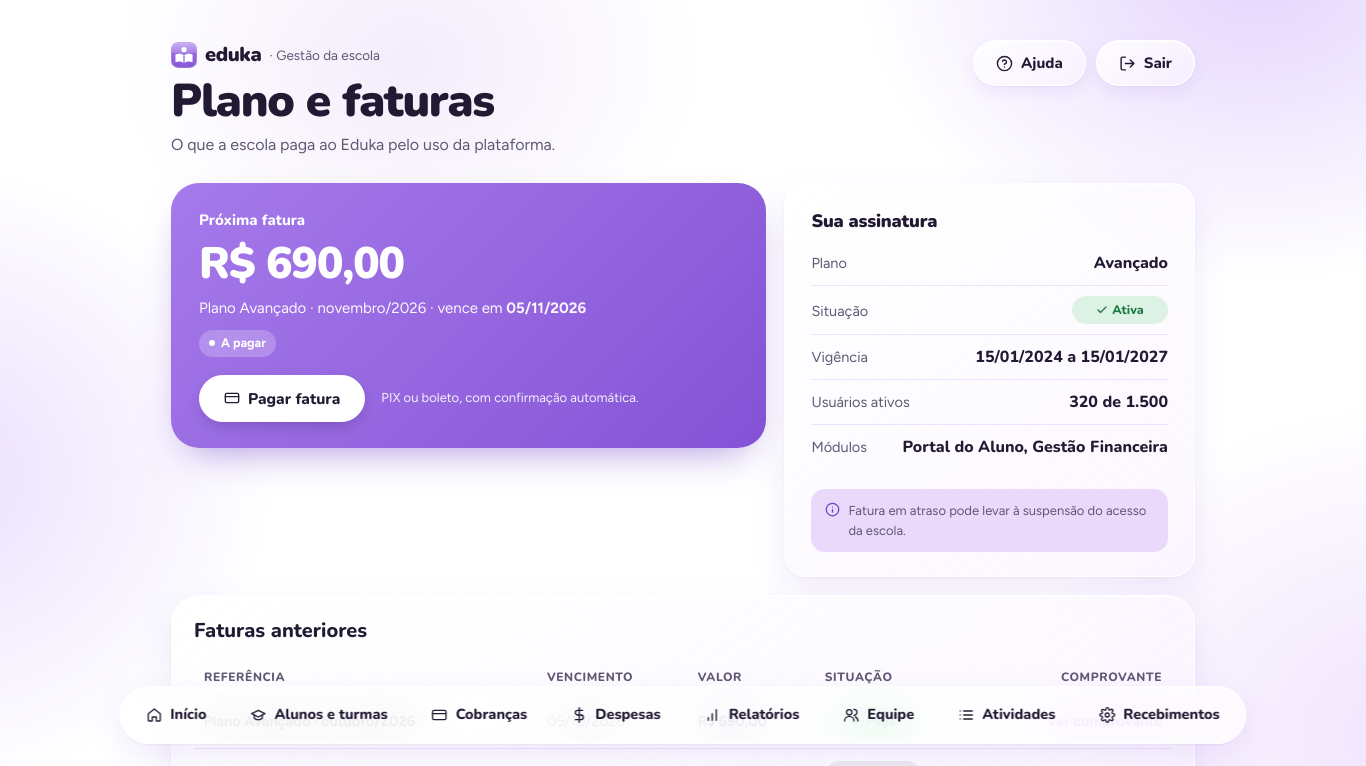
Test case: PlanoEFaturas › Pagar fatura abre a mesma escolha de PIX ou boleto do aluno
Click the button "Pagar fatura".
click(282, 398)  # box x1=199 y1=374 x2=365 y2=422
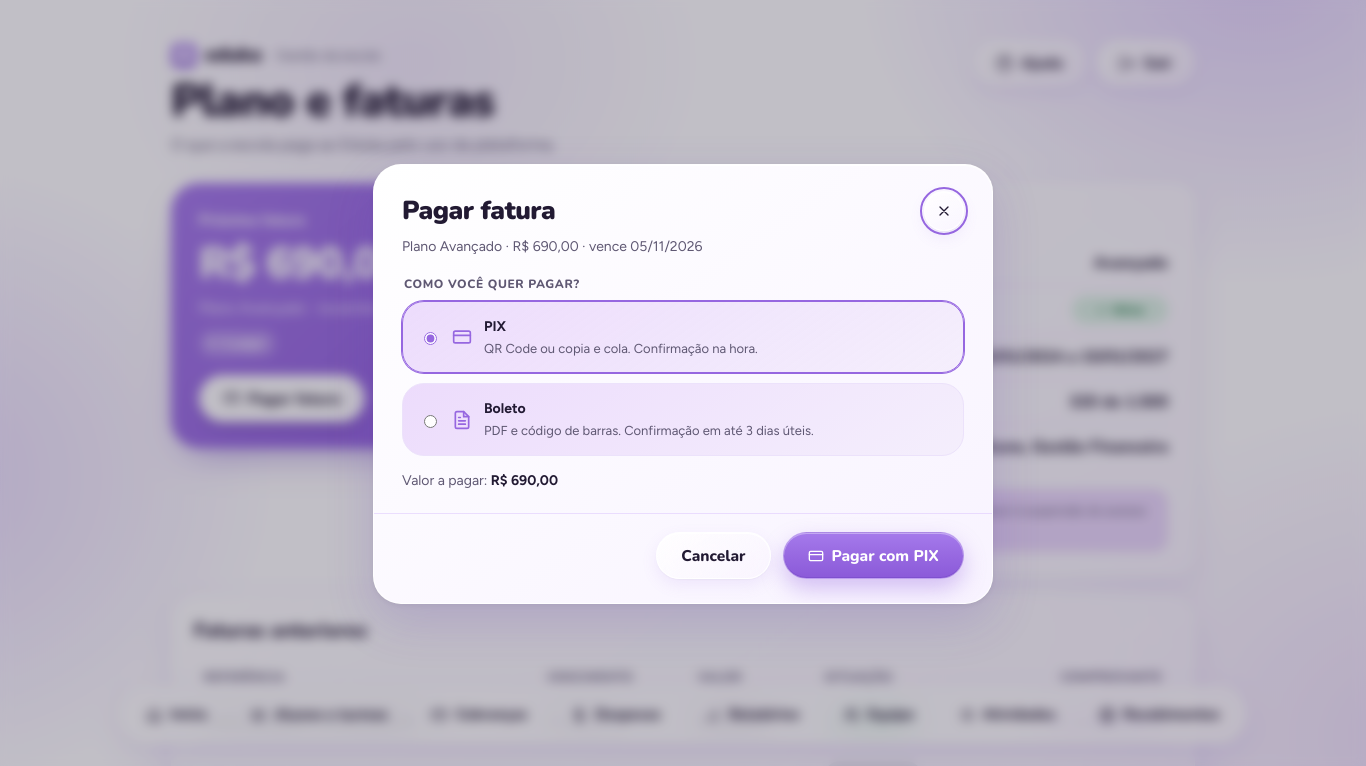
Expected: the heading "Pagar fatura" is shown, x1=402 y1=193 x2=555 y2=228
Expected: the radio button labelled "PIX QR Code ou copia e cola. Confirmação na hora." is checked, x1=424 y1=332 x2=437 y2=345
Expected: the radio button labelled "Boleto" is shown, x1=424 y1=415 x2=437 y2=428
